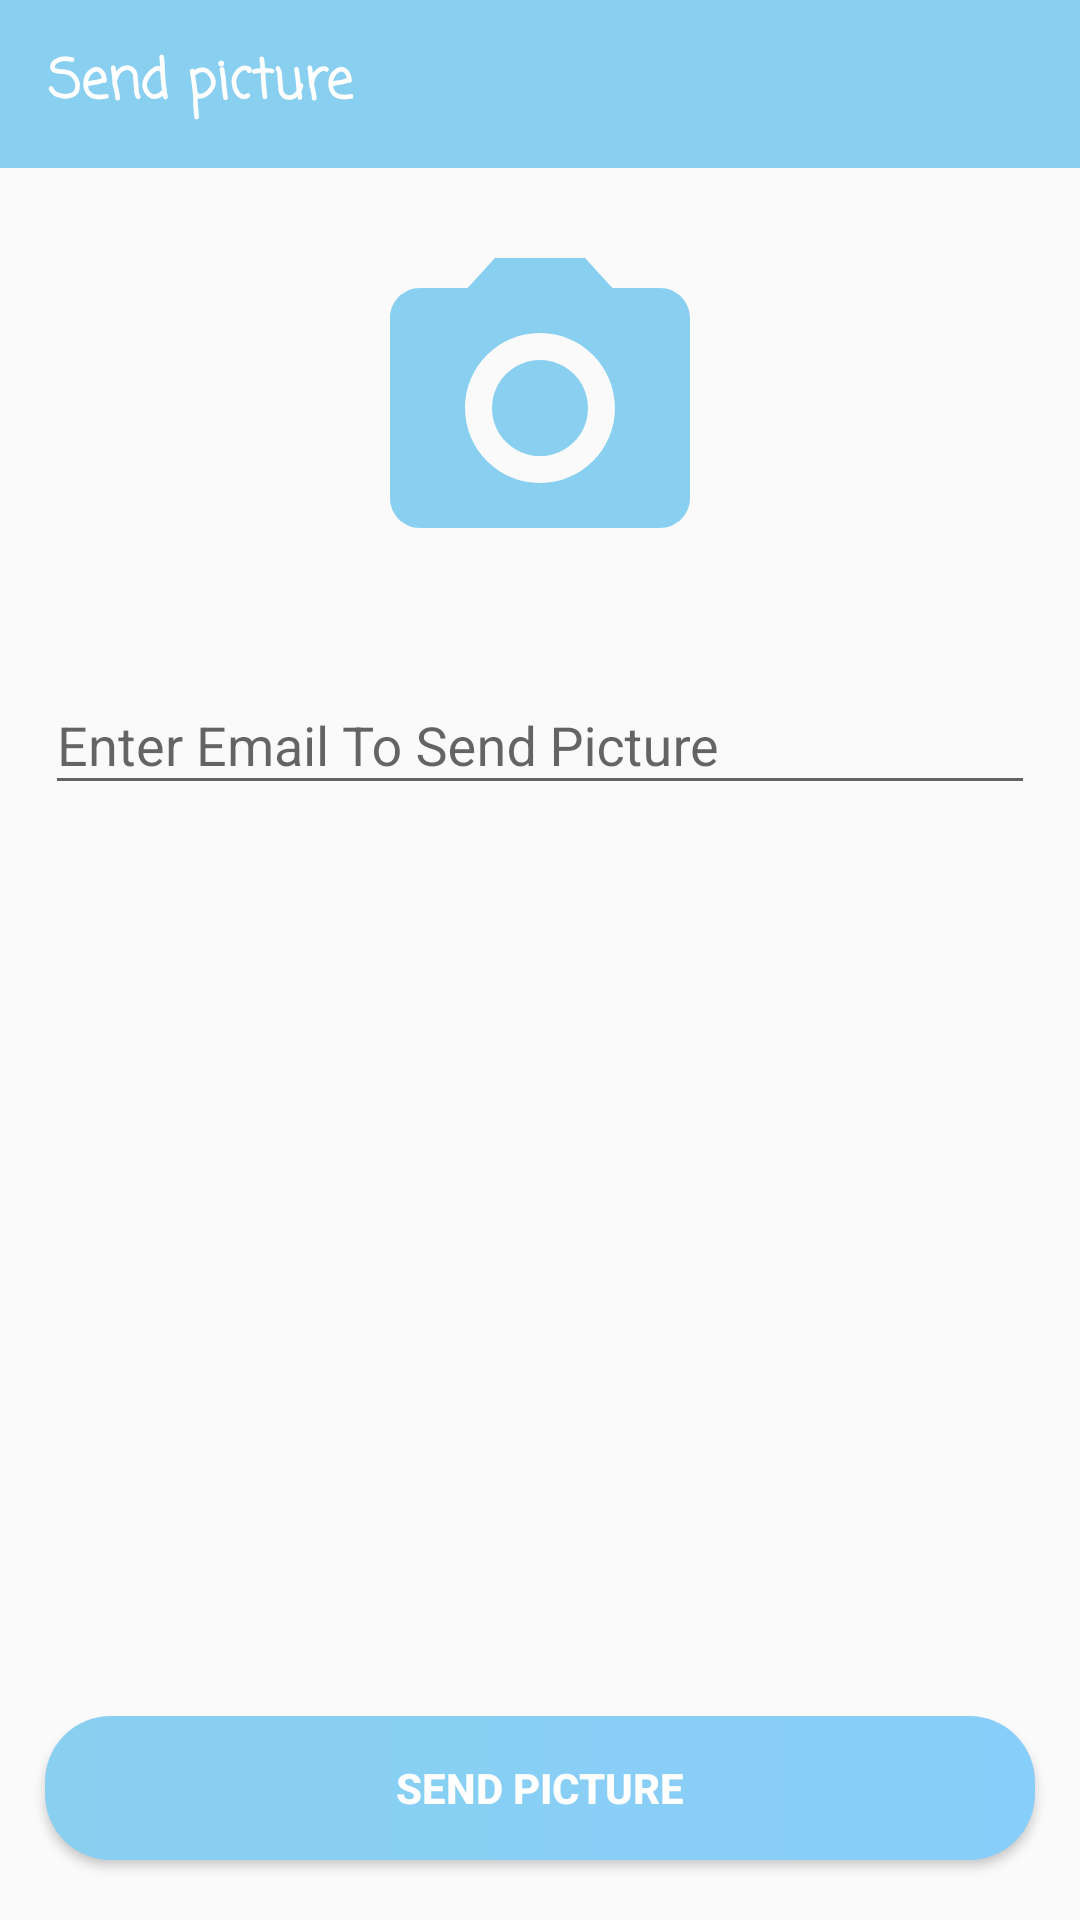

Where icons sit on this 1080 x 1920 app screen, as (x1, y1, x2, y2):
camera: (390, 258, 690, 528)
